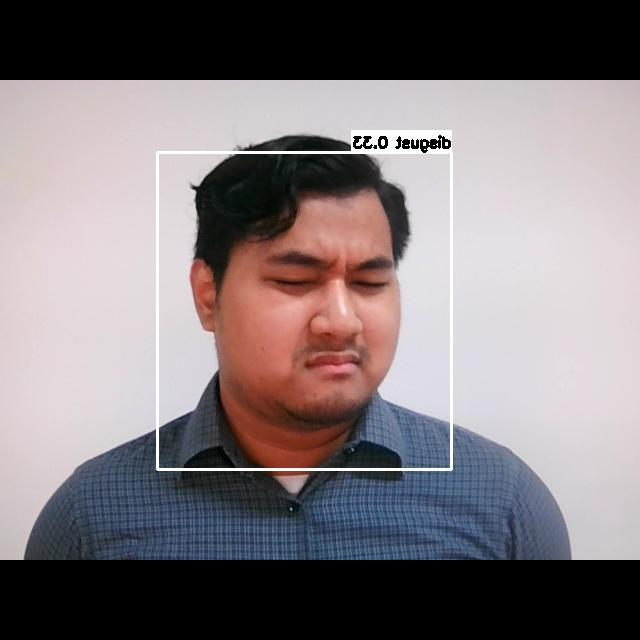Disgust: (231, 225, 405, 388)
